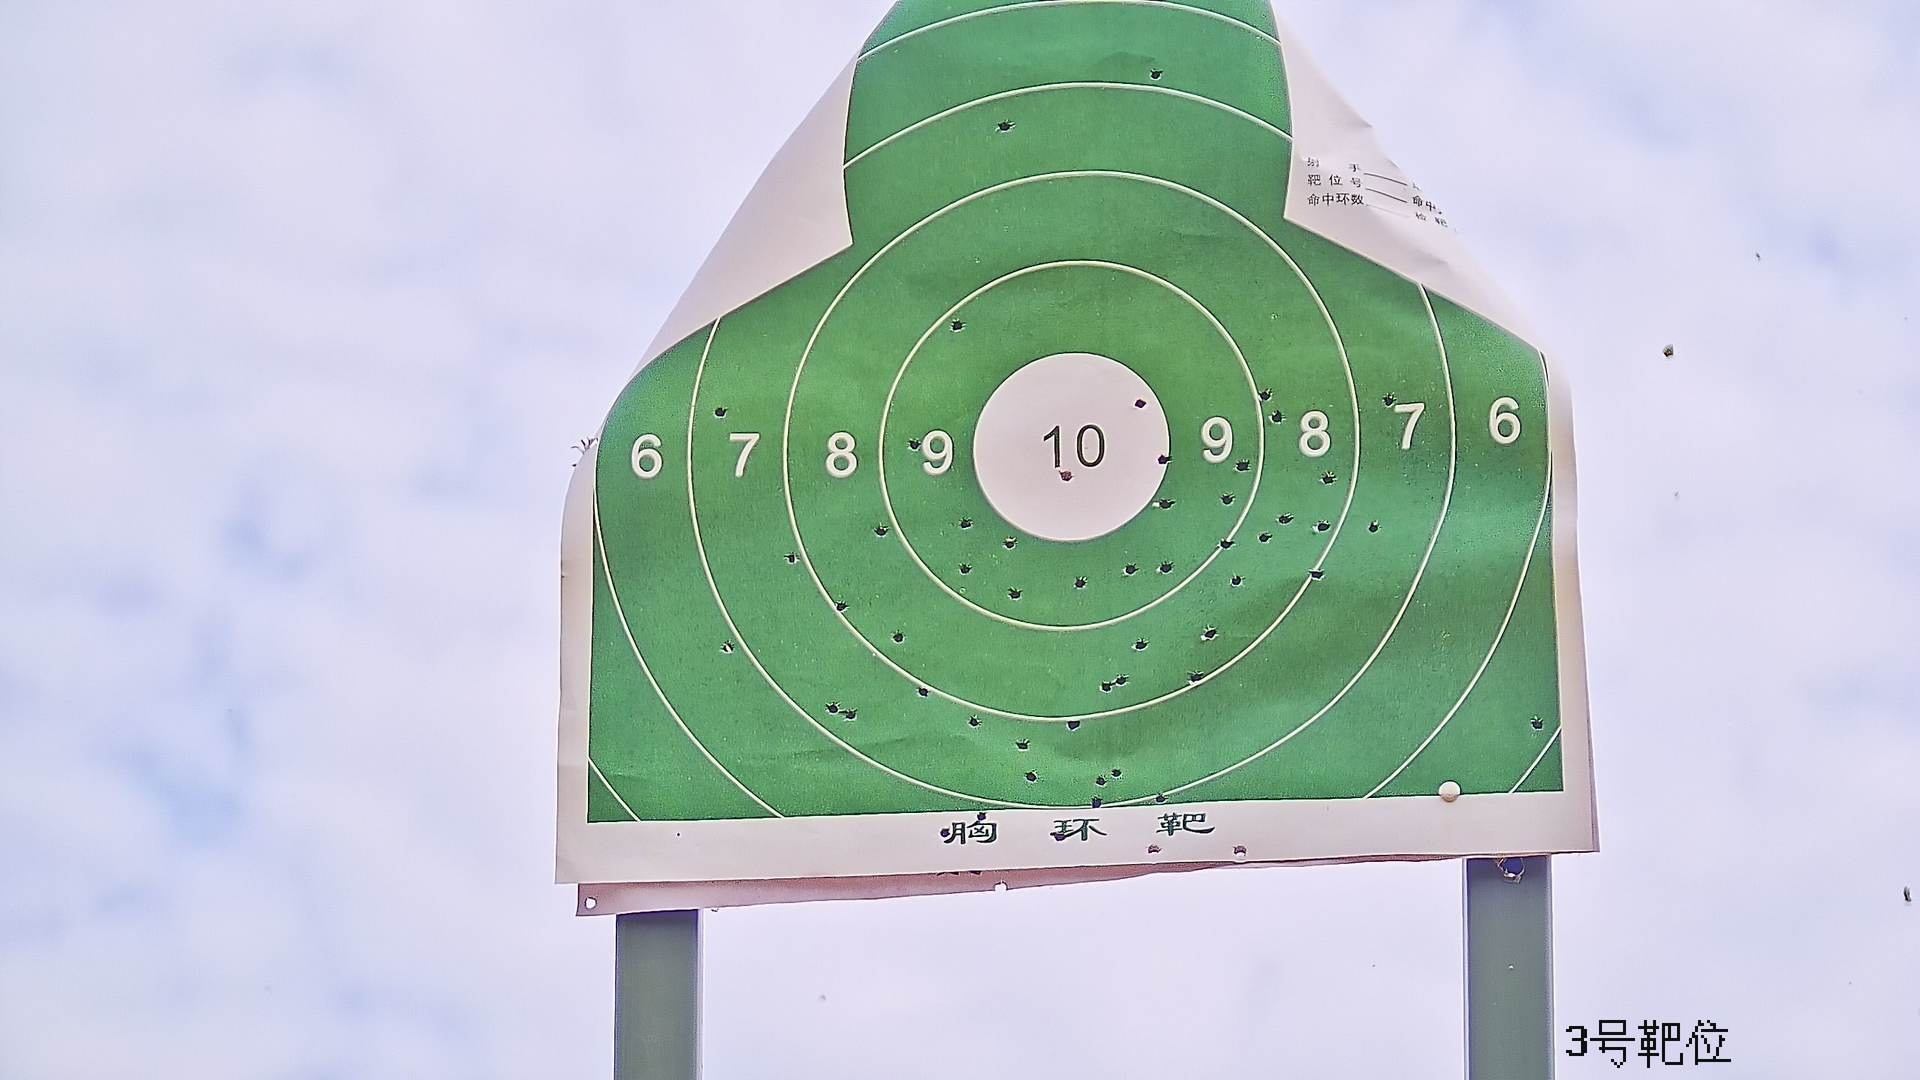hole: (1218, 535, 1237, 553), (1015, 735, 1030, 753), (711, 405, 729, 419), (1269, 410, 1288, 423), (1236, 459, 1251, 475), (1145, 843, 1160, 858), (1309, 566, 1324, 583), (1203, 624, 1217, 641), (1155, 451, 1174, 464), (1367, 520, 1382, 535), (1258, 529, 1273, 545), (1158, 497, 1174, 512), (720, 638, 736, 653), (1065, 717, 1080, 732), (1530, 713, 1544, 728), (996, 117, 1011, 131), (1383, 392, 1396, 407), (1317, 520, 1331, 535), (1259, 388, 1273, 404), (1276, 512, 1294, 524), (1098, 680, 1116, 692), (1323, 471, 1336, 485), (1159, 560, 1174, 574), (1001, 535, 1015, 549), (959, 560, 972, 575), (909, 438, 922, 452), (916, 684, 930, 699), (837, 597, 851, 612), (1189, 671, 1205, 683), (1133, 638, 1149, 650), (1052, 831, 1068, 843), (1232, 847, 1249, 857), (951, 320, 964, 334), (1222, 491, 1236, 504), (1060, 468, 1073, 481), (1114, 673, 1127, 686), (891, 629, 905, 642), (1149, 69, 1163, 80), (1124, 562, 1138, 574), (874, 521, 886, 535), (825, 699, 837, 713), (1228, 575, 1244, 585), (940, 827, 953, 839), (786, 550, 798, 563), (1076, 576, 1087, 591), (1007, 588, 1022, 599), (1091, 796, 1102, 808), (960, 517, 972, 529), (968, 713, 978, 727), (1135, 397, 1146, 409), (1026, 771, 1036, 783), (847, 707, 858, 717), (1112, 766, 1122, 777), (1156, 793, 1166, 804), (1097, 775, 1106, 786), (976, 812, 986, 822)
target: (589, 5, 1561, 807)
ten: (971, 353, 1178, 545)
